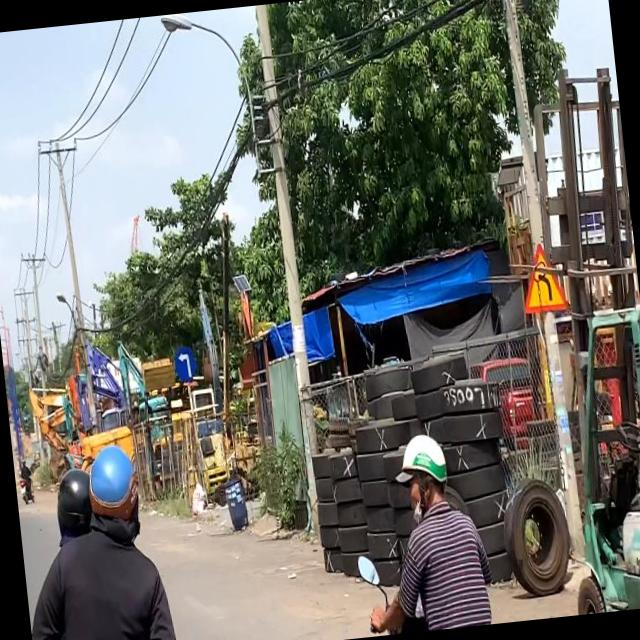R-301e: (174, 342, 195, 384)
